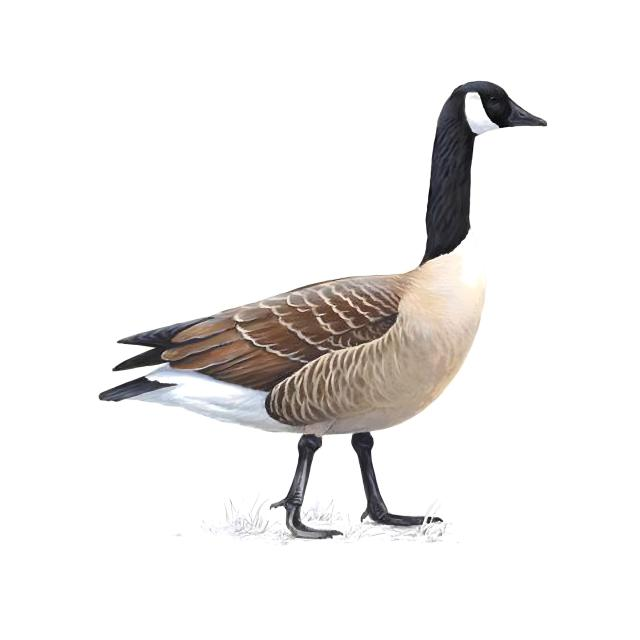Goose: (95, 61, 555, 546)
